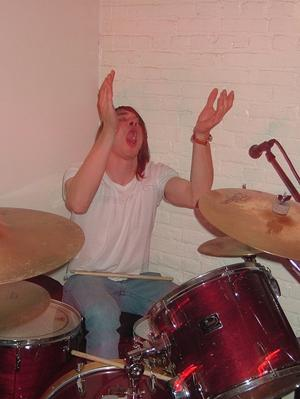person: (61, 68, 238, 369)
